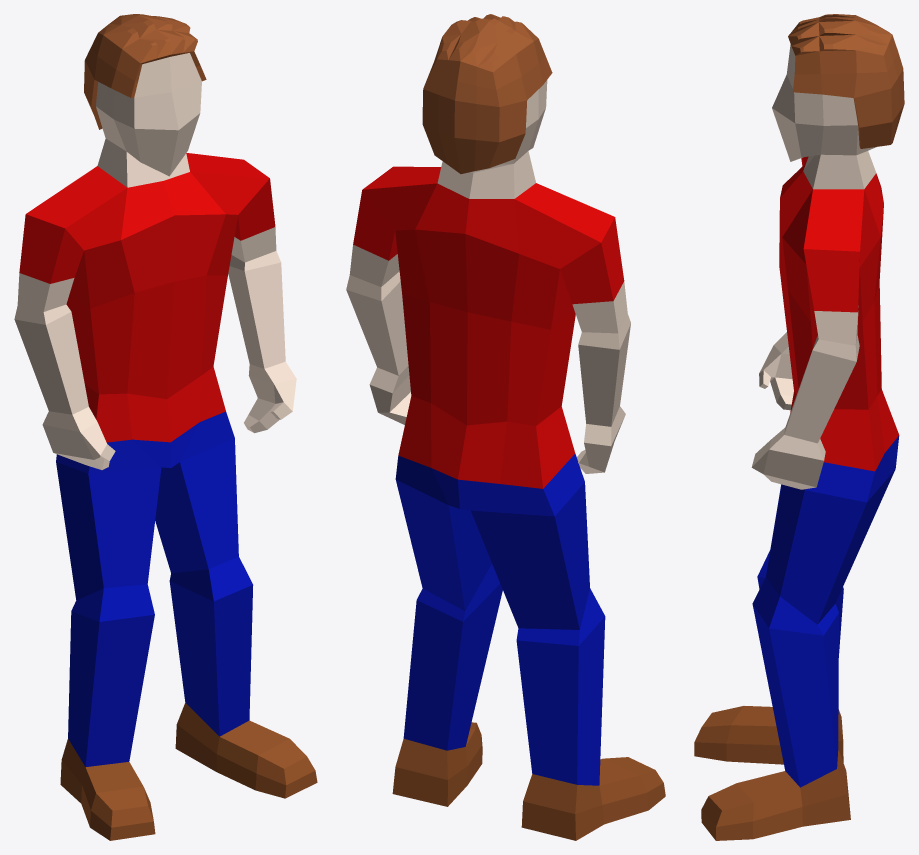
The model's file is Human_standing.fbx.
The picture shows the model from 3 angles, left to right: view 1: azimuth 30°, elevation 25°; view 2: azimuth 150°, elevation 25°; view 3: azimuth 270°, elevation 25°; orthographic projection. The views are drawn at different scales.
Parts seen in each view (by area): view 1: Person; view 2: Person; view 3: Person.
Boxes of the visible parts, bbox=[...] form: Person: bbox=[14, 14, 317, 840]; Person: bbox=[346, 14, 665, 840]; Person: bbox=[694, 14, 904, 840].
Bounding box in the file's own units: 0.1111 × 0.3153 × 0.0781.
